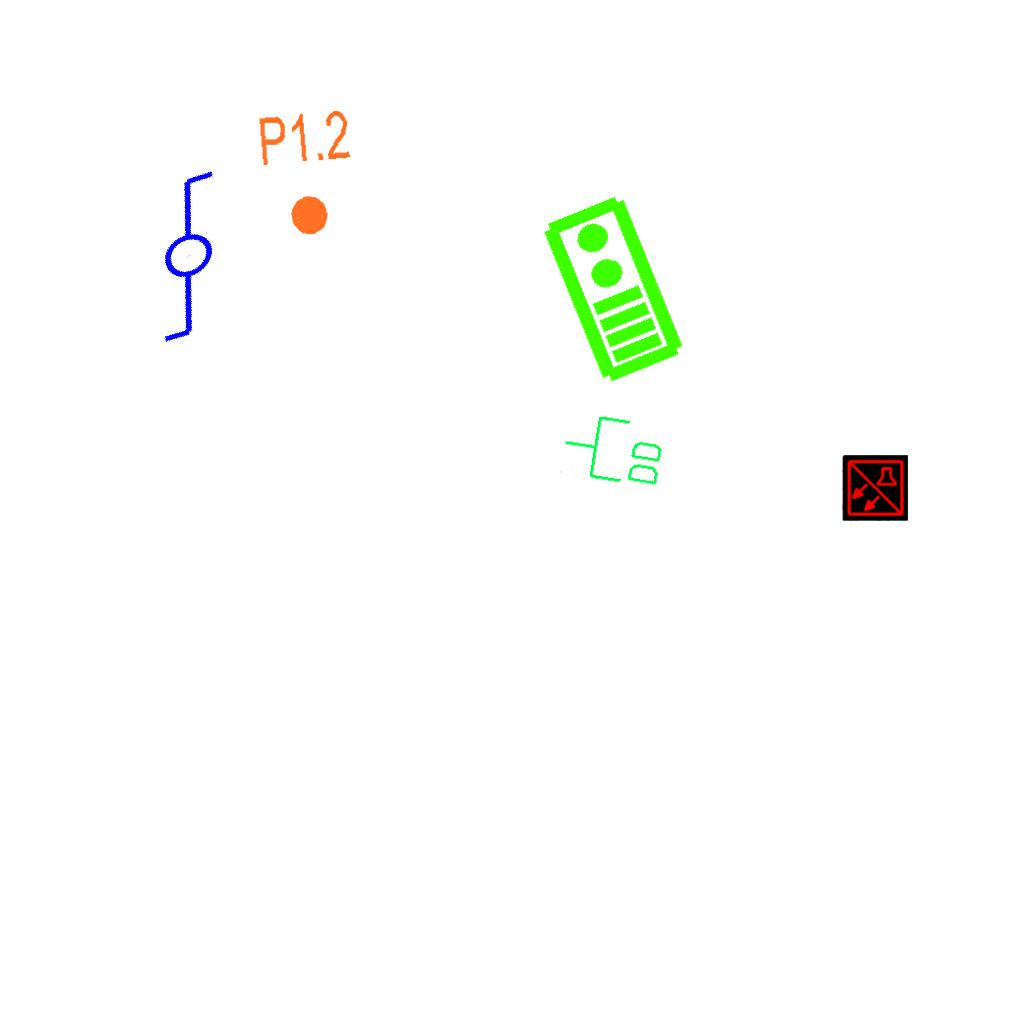Datenanschluss_zweifach: (557, 408, 670, 493)
Downlight_LED_Einbauleuchten_Flur: (255, 106, 360, 242)
Gegensprechanlage_mit_Video: (534, 189, 689, 389)
OKW_Multisensormelder_(Kombination_optischer_Rauch-Kahlenmonoxid_Waerme-Melder): (842, 455, 908, 521)
Wechselschalter: (91, 149, 302, 357)
